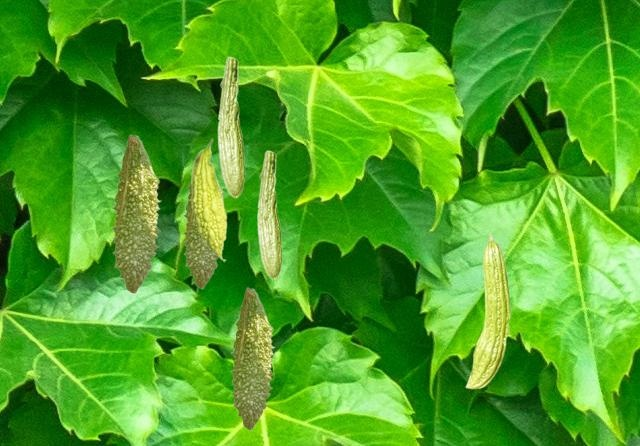ampalaya: (110, 133, 161, 294), (464, 232, 511, 389), (229, 287, 275, 431), (182, 153, 226, 289), (190, 138, 227, 262), (217, 56, 245, 198), (256, 150, 283, 280)
